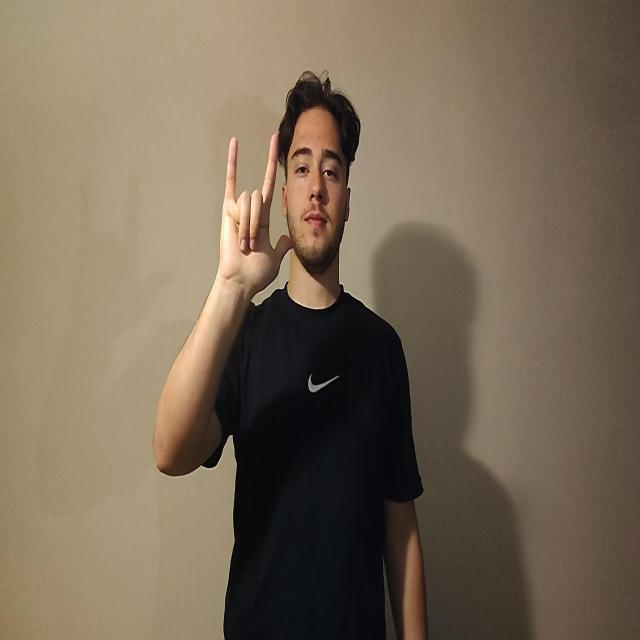iloveyou: (217, 131, 295, 300)
